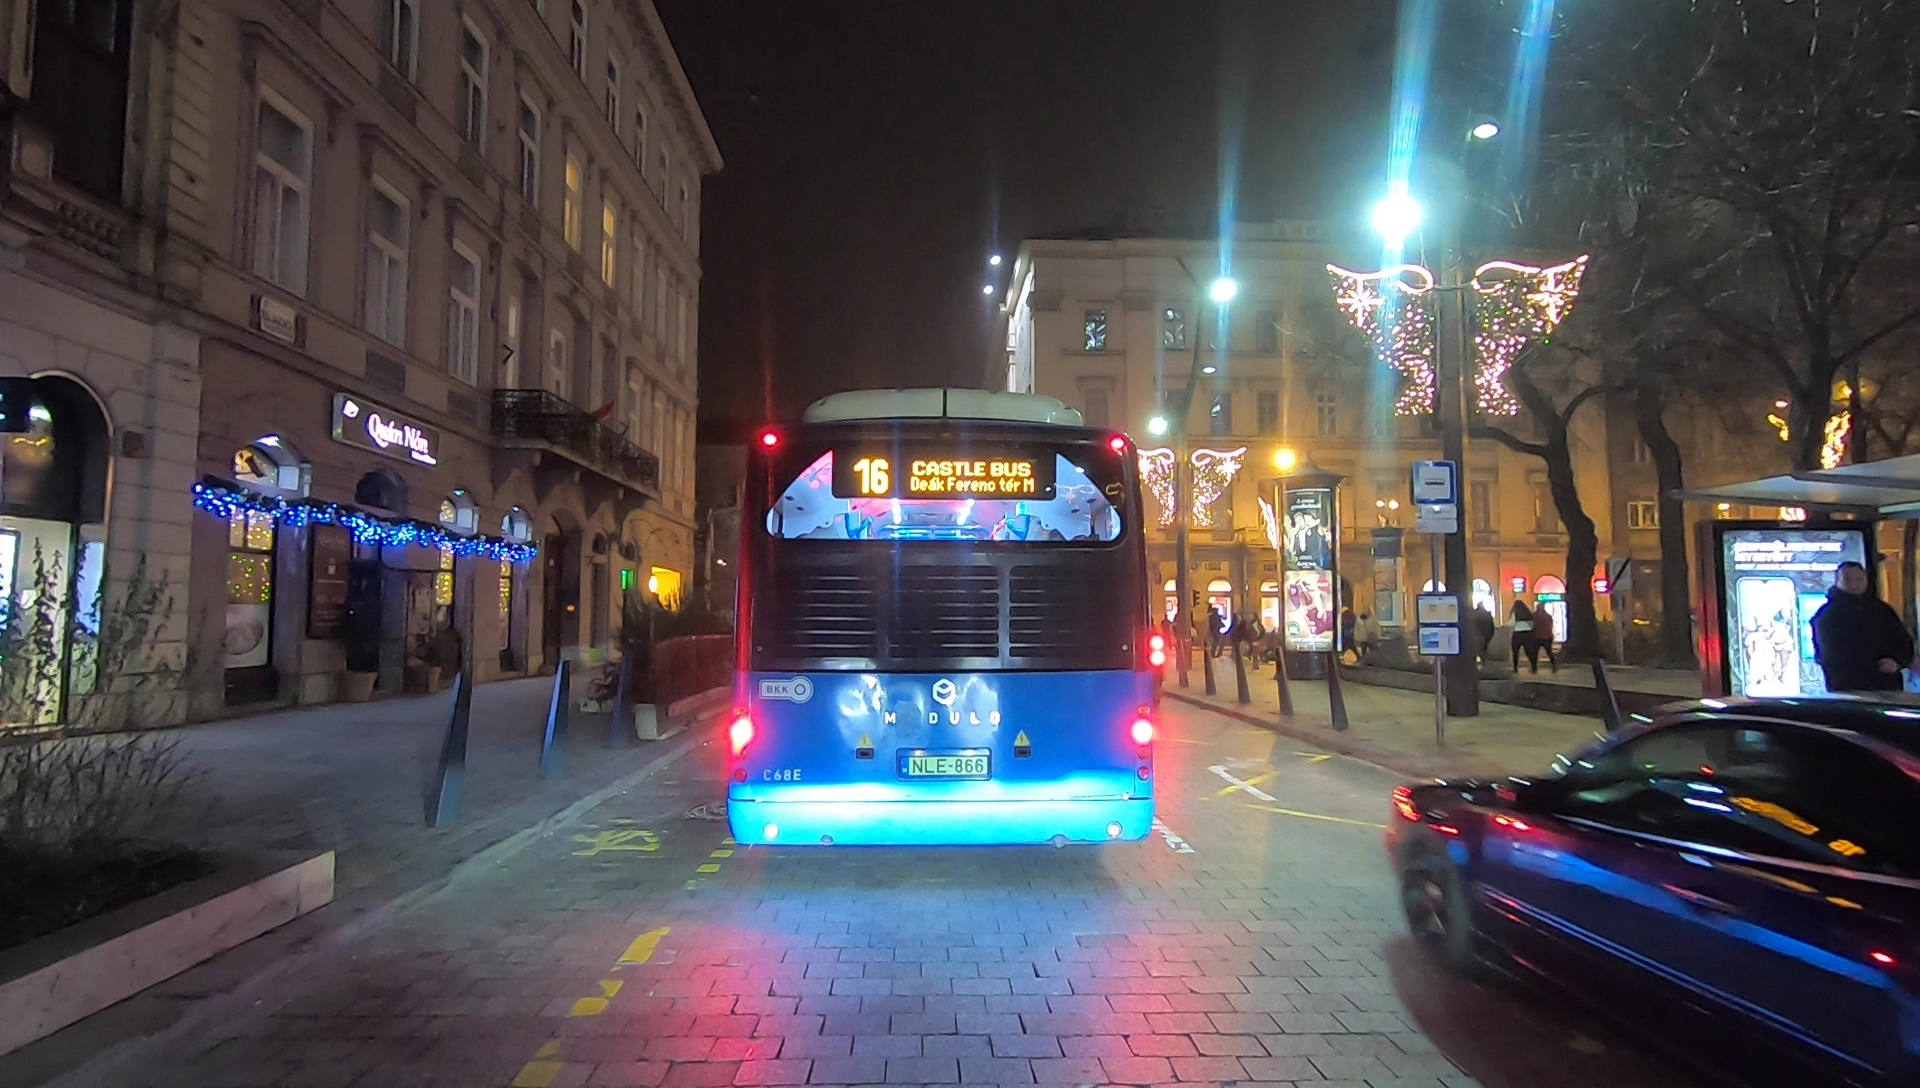person: (1815, 561, 1915, 788), (1505, 599, 1533, 669), (1472, 599, 1494, 672), (1530, 605, 1555, 666)
